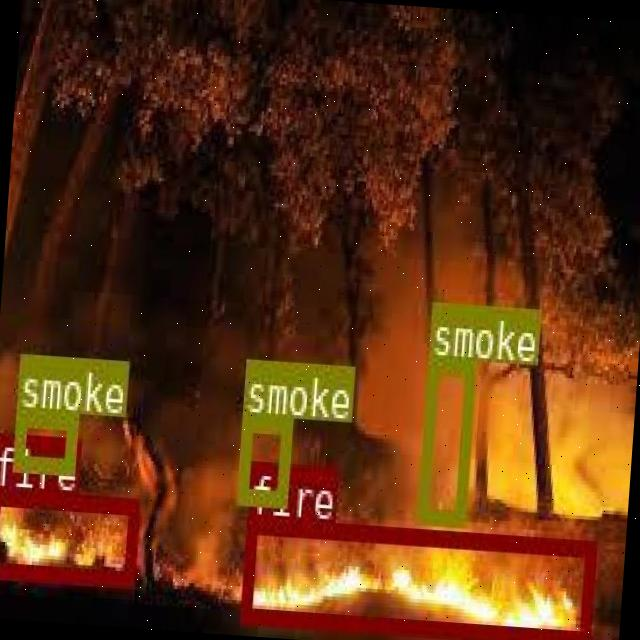fire: (239, 513, 594, 640), (0, 488, 137, 583)
smoke: (414, 354, 472, 522), (235, 415, 290, 504), (12, 408, 76, 471)
